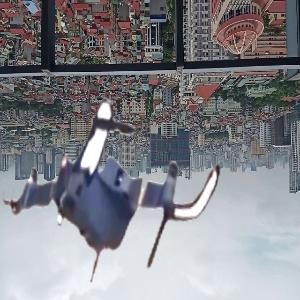drone: (6, 77, 221, 292)
